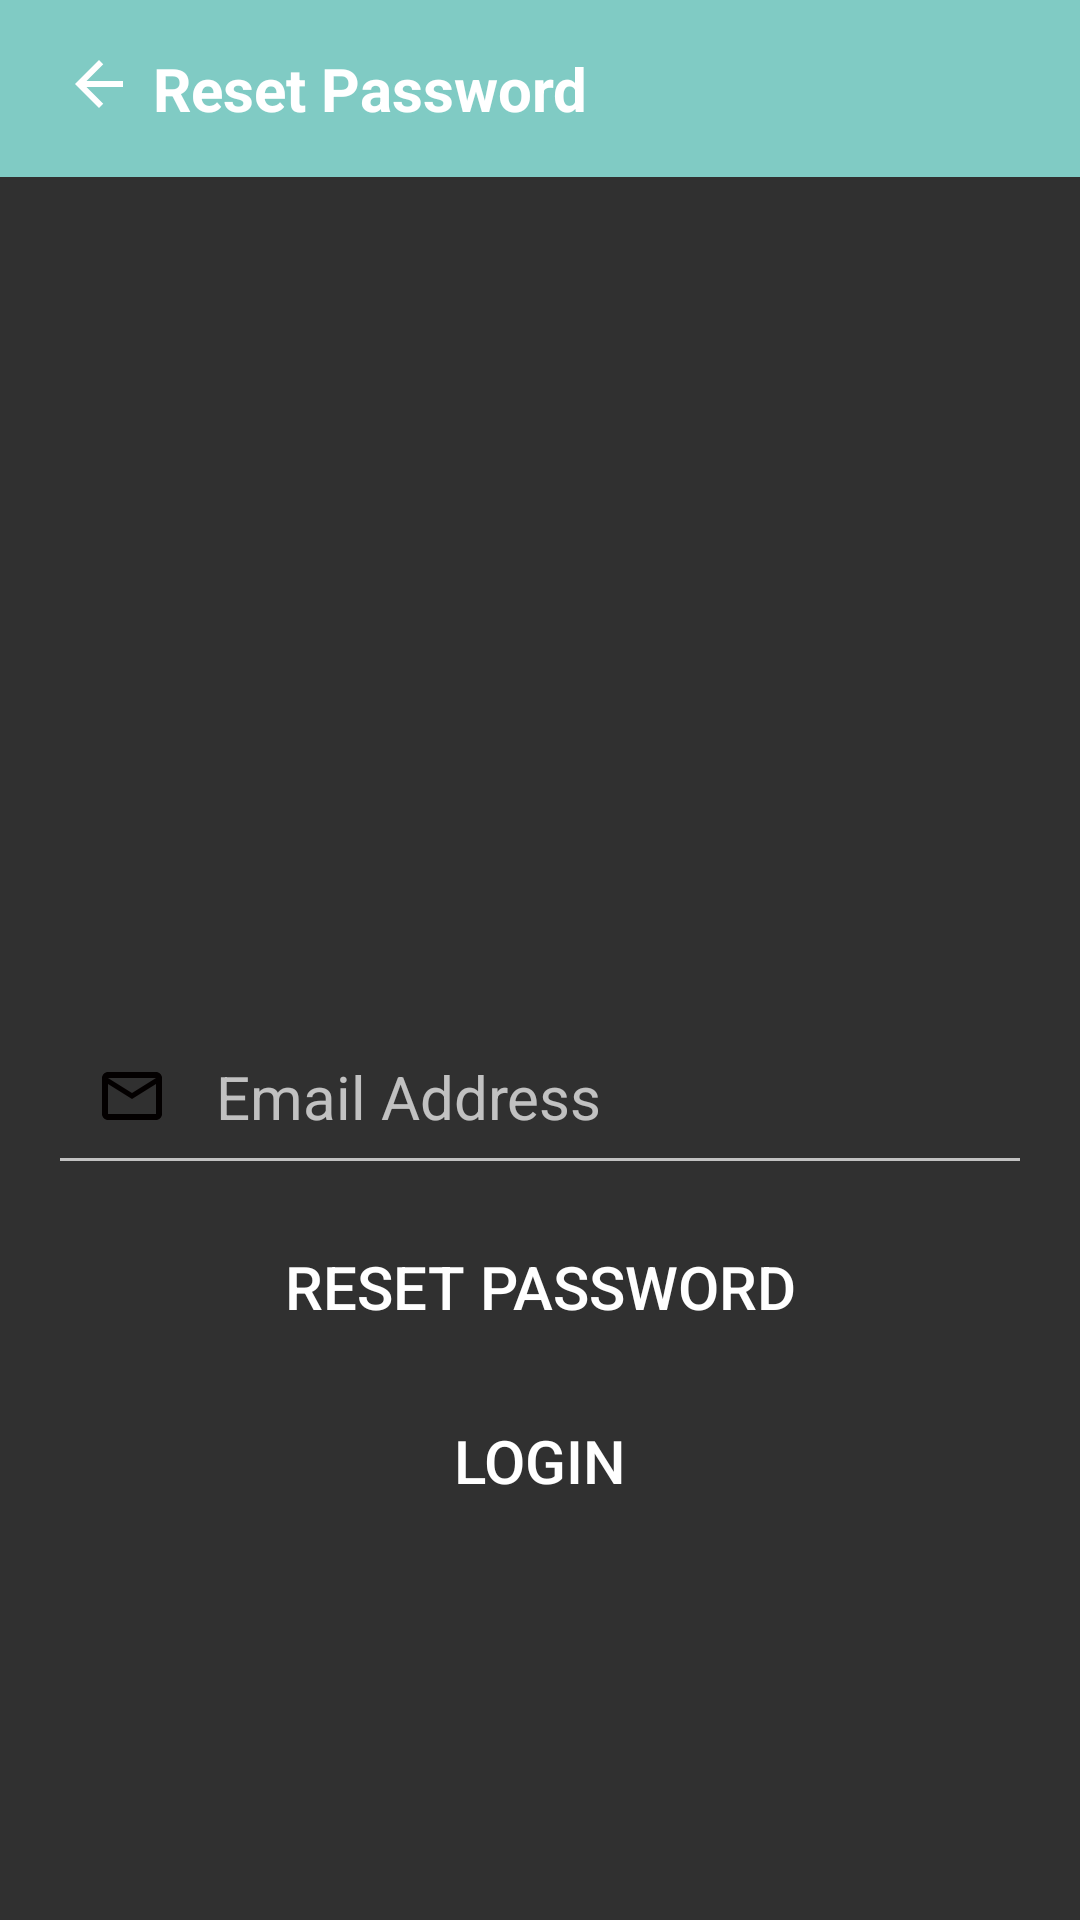

Icons on this 1080×1920 Android screen, each with the point to tap as (x=x, y=y):
arrow back: (x=99, y=84)
